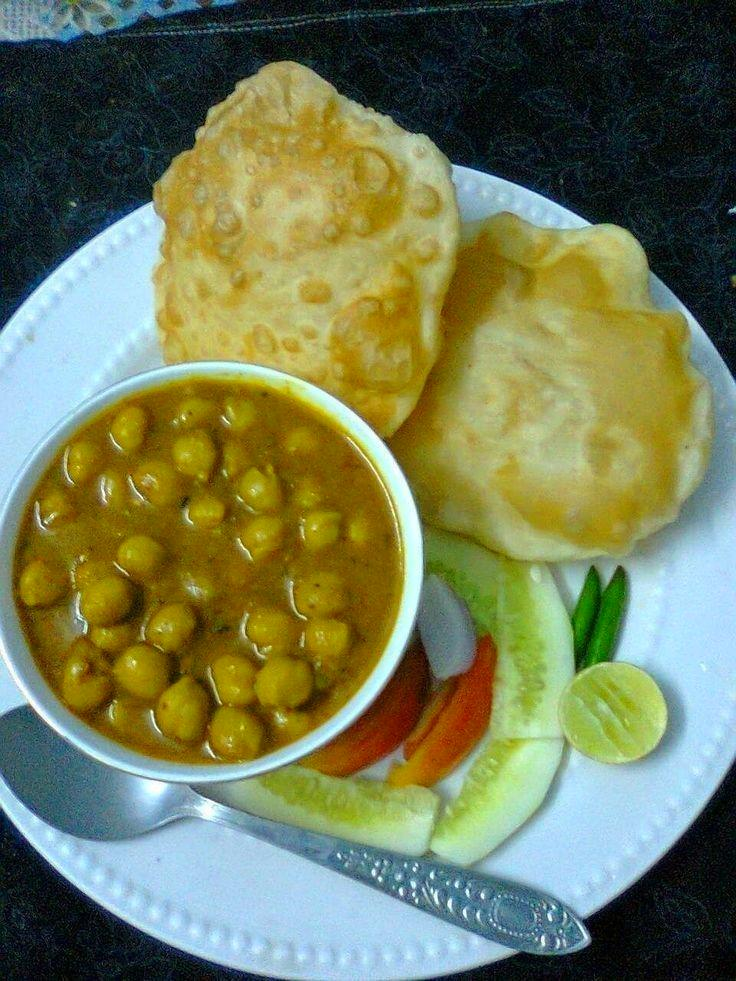chole: (20, 371, 398, 779)
puri: (403, 262, 713, 528), (175, 86, 437, 400)
salad: (378, 549, 598, 828)
